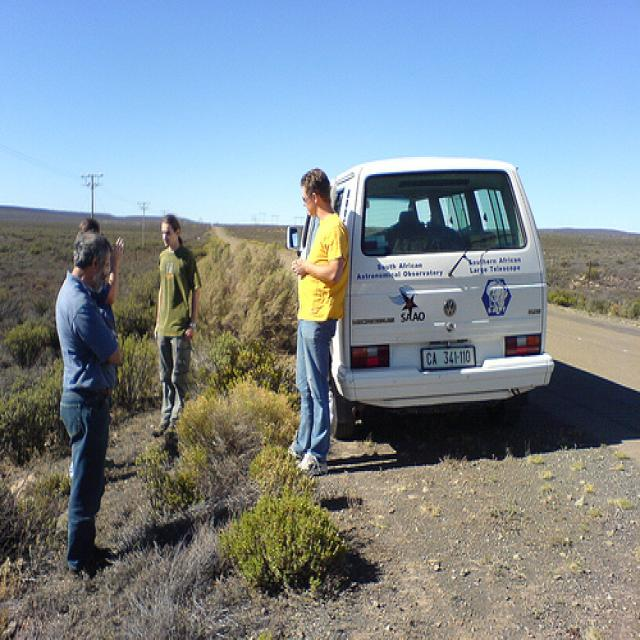light_vehicle: (287, 154, 550, 442)
